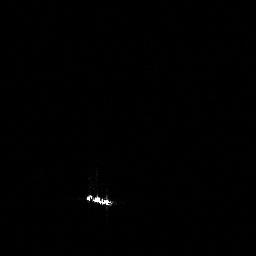ship: (82, 191, 116, 210)
